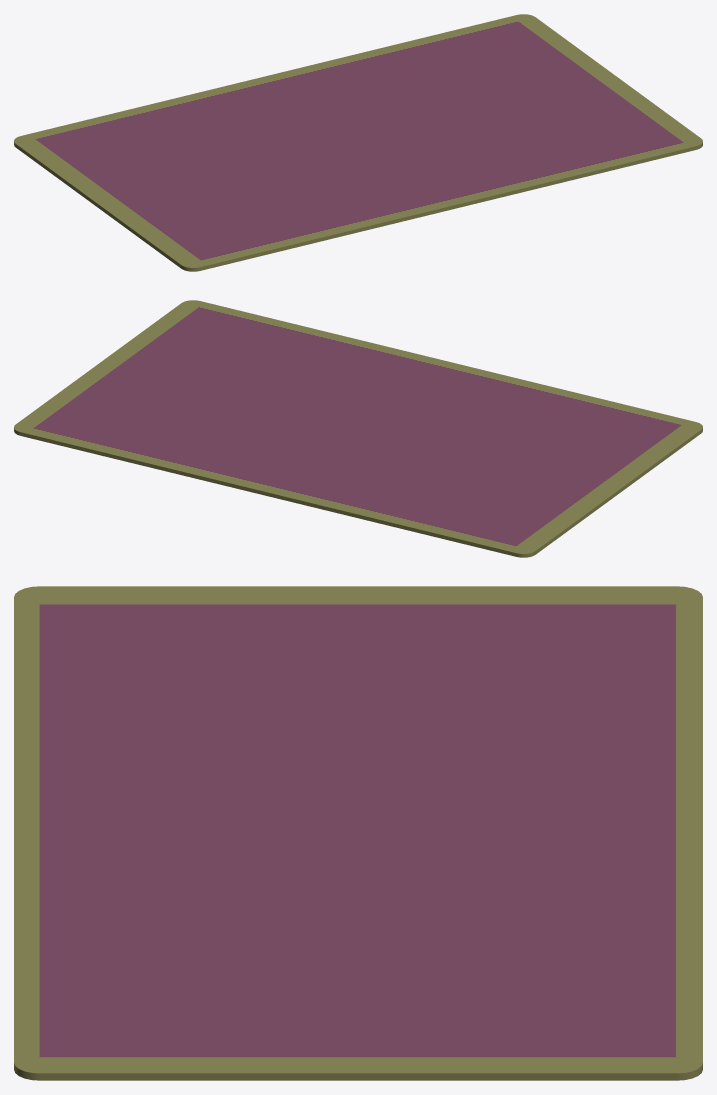
The model's file is alfombra1.obj.
3 views of the same model, one above another, from view 1: azimuth 30°, elevation 25°; view 2: azimuth 150°, elevation 25°; view 3: azimuth 270°, elevation 25° (orthographic). The views are drawn at different scales.
Parts seen in each view (by area): view 1: pCube1; view 2: pCube1; view 3: pCube1.
Part boxes in pixels (box(x1,y1,x2,y2)): pCube1: box(14, 14, 702, 271); pCube1: box(14, 300, 702, 557); pCube1: box(14, 586, 702, 1080).
Bounding box in the file's own units: 5.12 × 0.0352 × 3.06.
Materials: 1 (1 with a texture image).
